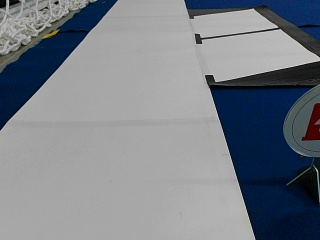battery: (283, 86, 319, 157)
